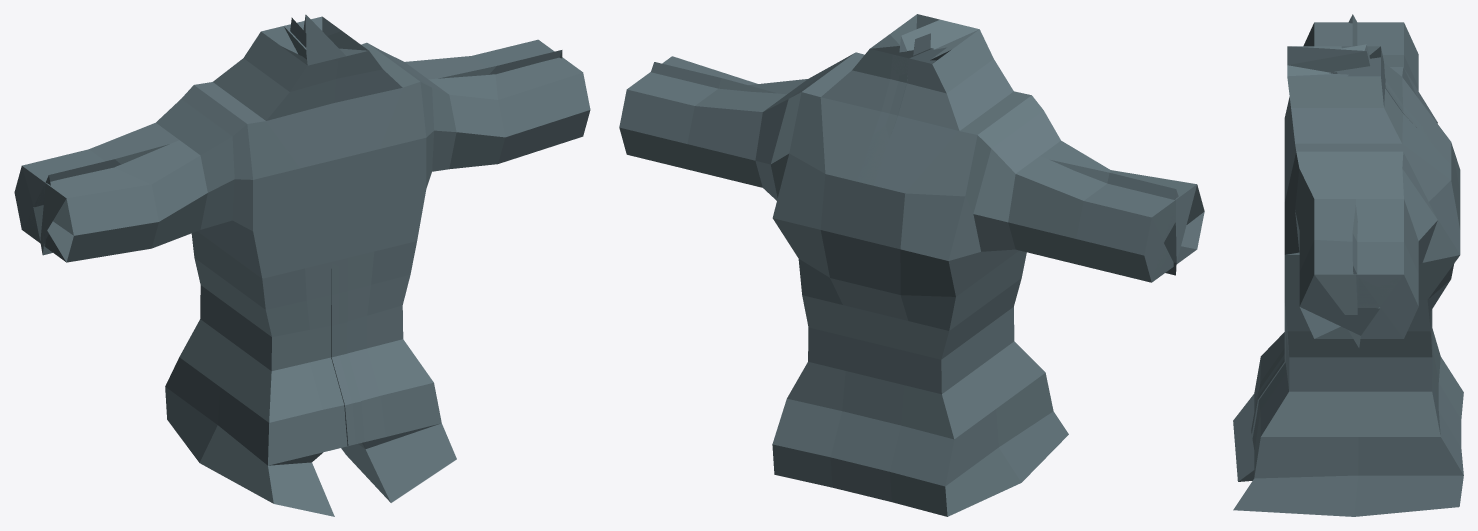
The model's file is Iron_Chestplate.fbx.
The picture shows the model from 3 angles, left to right: view 1: azimuth 30°, elevation 25°; view 2: azimuth 150°, elevation 25°; view 3: azimuth 270°, elevation 25°; orthographic projection.
Parts seen in each view (by area): view 1: ChestPlate; view 2: ChestPlate; view 3: ChestPlate.
Boxes of the visible parts, x1,y1,x2,y2 form: ChestPlate: (14, 14, 590, 516); ChestPlate: (619, 14, 1204, 516); ChestPlate: (1233, 14, 1463, 516).
Bounding box in the file's own units: 0.9711 × 0.371 × 0.7946.
Materials: 1 (1 with a texture image).
